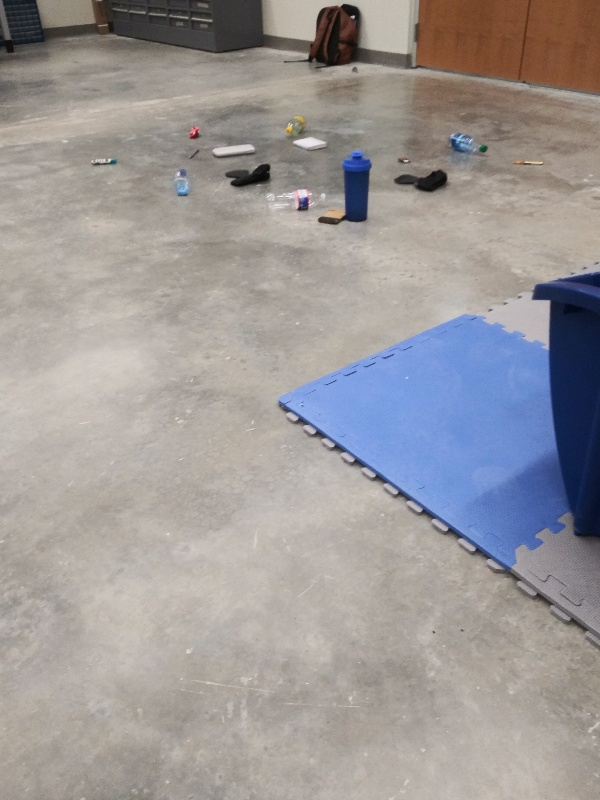bottle: (261, 187, 332, 214), (440, 128, 488, 155), (169, 163, 193, 200), (278, 111, 308, 139)
